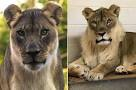lion: (3, 3, 64, 90), (71, 4, 136, 84)
